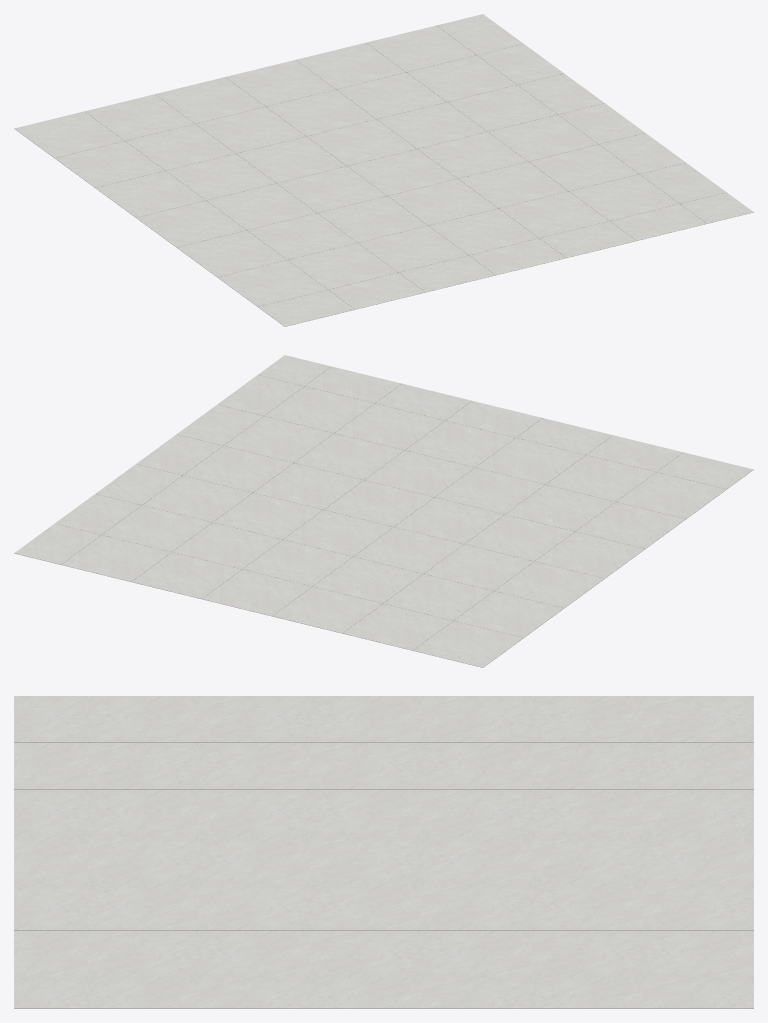
File: luna-120x120.glb
The picture shows the model from 3 angles, top to bottom: view 1: azimuth 30°, elevation 25°; view 2: azimuth 150°, elevation 25°; view 3: azimuth 270°, elevation 25°; orthographic projection. The views are drawn at different scales.
Visible parts, largest first — view 1: Luna; view 2: Luna; view 3: Luna.
Part boxes in pixels (bbox=[...]): Luna: bbox=[14, 14, 753, 326]; Luna: bbox=[14, 355, 753, 667]; Luna: bbox=[14, 696, 753, 1008].
Size of the model in its own units: 8 by 0.003 by 8.
2 materials, 1 textured.
